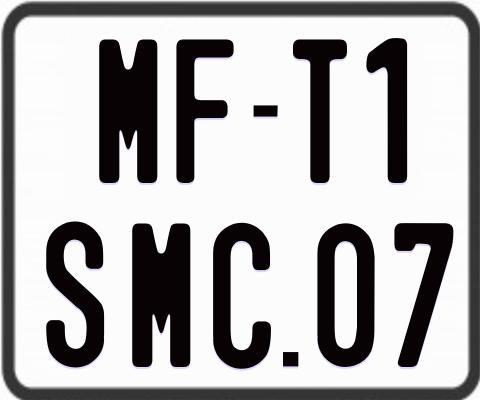0: (316, 220, 380, 367)
1: (363, 37, 408, 188)
7: (394, 222, 456, 367)
C: (211, 220, 273, 368)
F: (174, 39, 236, 184)
M: (98, 39, 160, 187), (130, 223, 188, 373)
S: (44, 218, 108, 368)
T: (292, 39, 349, 183)
